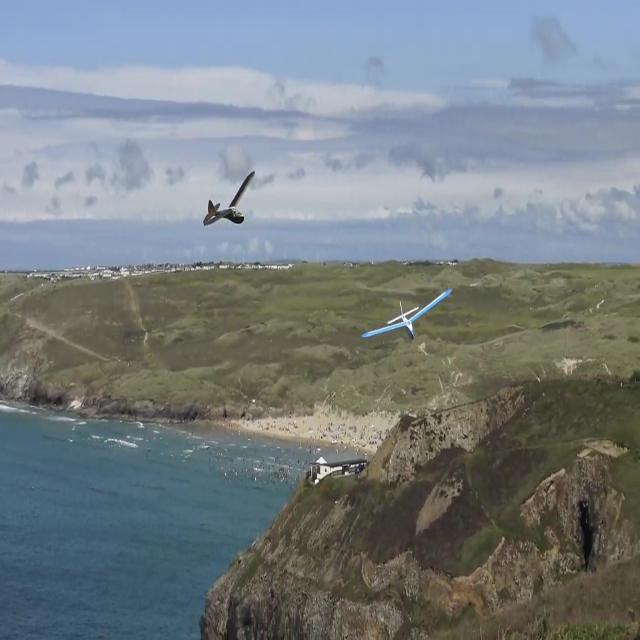iha: (203, 165, 256, 223), (392, 288, 420, 340)
